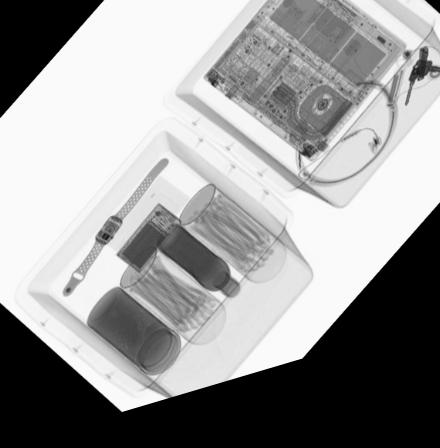Powerbank: (111, 210, 183, 284)
